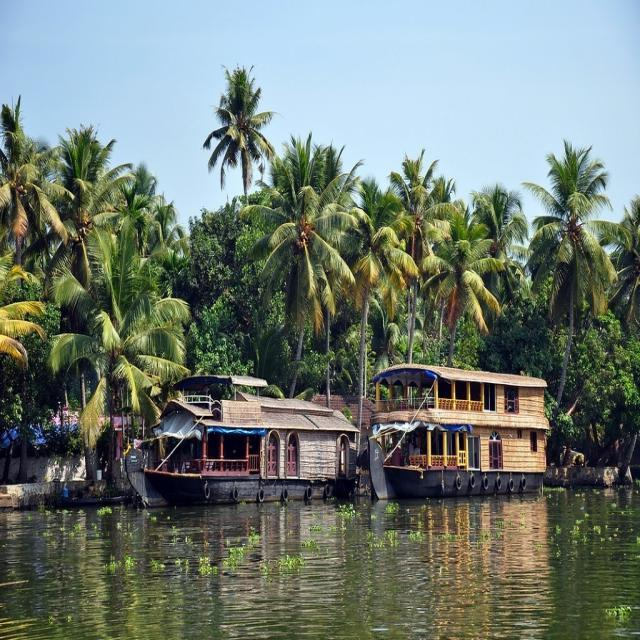Hyacinth: (592, 600, 628, 622), (270, 554, 303, 573), (365, 531, 395, 551), (104, 553, 130, 574), (7, 498, 38, 511), (245, 530, 264, 550), (224, 547, 244, 564), (0, 504, 30, 515), (94, 504, 112, 522), (197, 560, 213, 579), (404, 530, 421, 546), (540, 486, 566, 496), (297, 535, 313, 551), (382, 502, 400, 514), (543, 485, 567, 491)
boat: (138, 380, 351, 514), (367, 360, 551, 496)
